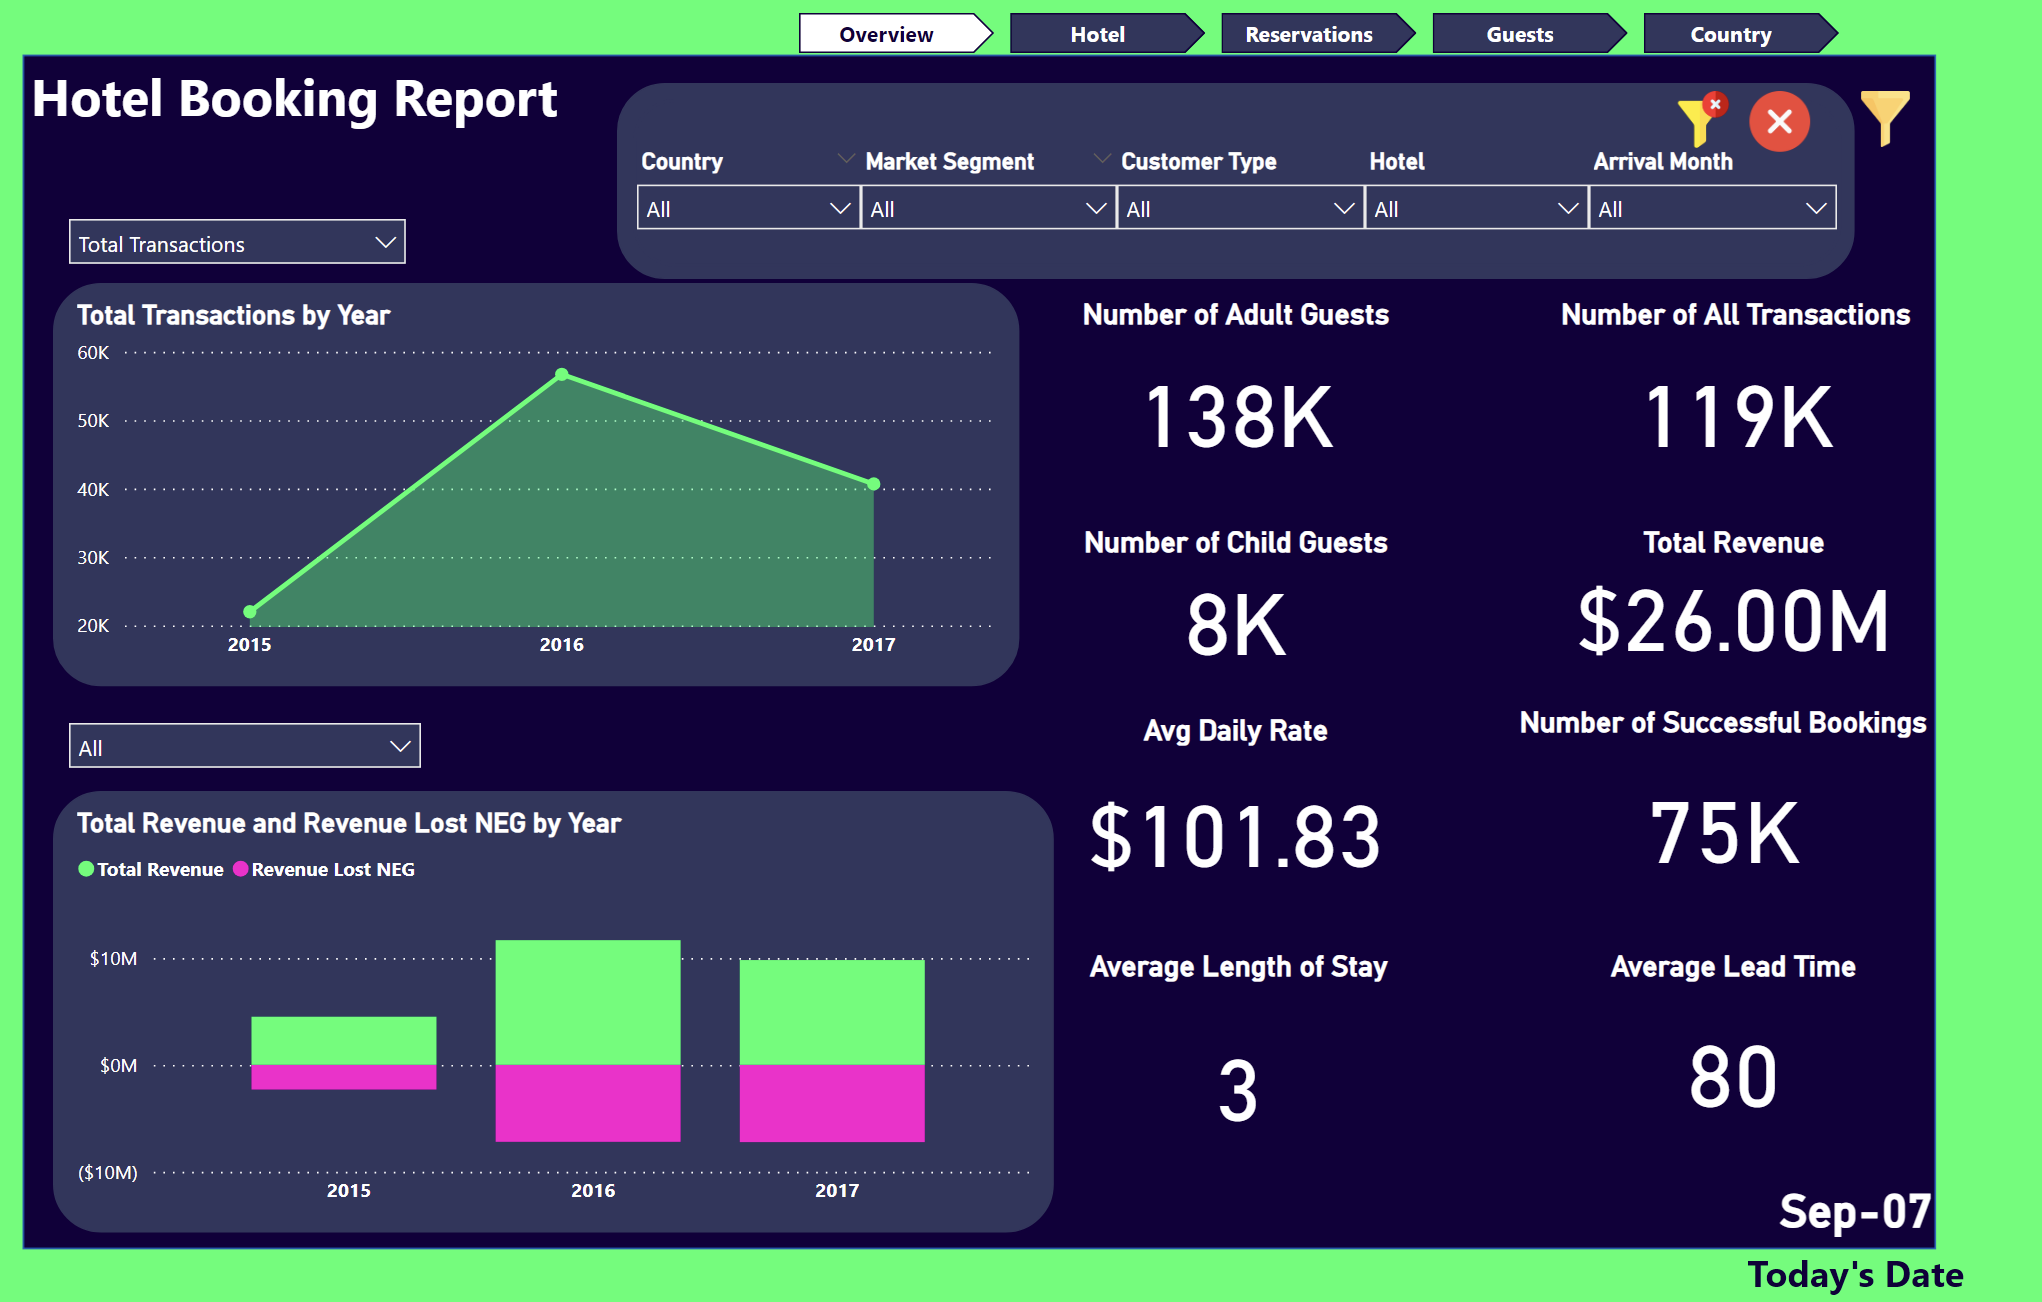

Layout of this report page (visuals, bound fields, positions):
{"tool":"powerbi","page":{"name":"Overview","canvas":[1280,820],"ordinal":0},"visuals":[{"type":"image","title":"Filter Mark","box":[1150,53.8,57.5,45],"z":0},{"type":"pageNavigator","box":[500,10,650,25],"z":1000},{"type":"areaChart","fields":{"Y":["All Measures.Total Number of Transactions"],"Category":["Date Table.Year"]},"box":[33.3,178.7,604,252],"z":2000},{"type":"textbox","title":"Title","box":[15,35,371.2,63.8],"z":3000},{"type":"card","title":"Number of Adult Guests","fields":{"Values":["All Measures.# of adults"]},"box":[653.8,187.5,238.8,117.5],"z":4000},{"type":"card","title":"Number of All Transactions","fields":{"Values":["All Measures.Total Number of Transactions"]},"box":[950.8,187.5,268.8,117.5],"z":5000},{"type":"card","title":"Number of Child Guests","fields":{"Values":["All Measures.# of children"]},"box":[653.8,330,238.8,92.5],"z":6000},{"type":"card","title":"Total Revenue","fields":{"Values":["All Measures.Total Revenue"]},"box":[948.3,330.4,271.2,87.5],"z":7000},{"type":"card","title":"Avg Daily Rate","fields":{"Values":["All Measures.avg rate"]},"box":[653.8,447.5,238.8,122.5],"z":8000},{"type":"card","title":"Number of Successful Bookings","fields":{"Values":["All Measures.# of bookings"]},"box":[936.8,443.1,283,127.6],"z":9000},{"type":"card","title":"Average Length of Stay","fields":{"Values":["All Measures.Avg Length of Stay"]},"box":[653.8,595,242.5,145],"z":10000},{"type":"card","title":"Average Lead Time","fields":{"Values":["All Measures.Average Lead Time"]},"box":[977.3,594.7,213.3,128],"z":11000},{"type":"slicer","fields":{"Values":["Parameter 1.Parameter customer type"]},"box":[33.3,129.3,230.7,49.3],"z":12000},{"type":"columnChart","fields":{"Category":["hotel_bookings.Year","Calendar.Month","Calendar.Week Day"],"Y":["All Measures.Total Revenue","All Measures.Revenue Lost NEG"]},"box":[33.3,496,625.3,276],"z":13000},{"type":"slicer","fields":{"Values":["Parameter 6.Parameter 6"]},"box":[33.3,444,240,49.3],"z":15000},{"type":"card","fields":{"Values":["All Measures.Today's Date"]},"box":[1084.1,722.7,153.7,97.9],"z":16000}]}

Visuals, with their boxes in screenshot pixels (x1, y1, x2, y2), scaled from the page's 1280x820 canvas onto the 2042x1302 screenshot:
"Filter Mark" image: bbox=[1835, 85, 1926, 157]
pageNavigator: bbox=[798, 16, 1835, 56]
areaChart - All Measures.Total Number of Transactions x Date Table.Year: bbox=[53, 284, 1017, 684]
"Title" textbox: bbox=[24, 56, 616, 157]
"Number of Adult Guests" card: bbox=[1043, 298, 1424, 484]
"Number of All Transactions" card: bbox=[1517, 298, 1946, 484]
"Number of Child Guests" card: bbox=[1043, 524, 1424, 671]
"Total Revenue" card: bbox=[1513, 525, 1945, 664]
"Avg Daily Rate" card: bbox=[1043, 711, 1424, 905]
"Number of Successful Bookings" card: bbox=[1494, 704, 1946, 906]
"Average Length of Stay" card: bbox=[1043, 945, 1430, 1175]
"Average Lead Time" card: bbox=[1559, 944, 1899, 1148]
slicer - Parameter 1.Parameter customer type: bbox=[53, 205, 421, 284]
columnChart - hotel_bookings.Year x Calendar.Month: bbox=[53, 788, 1051, 1226]
slicer - Parameter 6.Parameter 6: bbox=[53, 705, 436, 783]
card - All Measures.Today's Date: bbox=[1729, 1148, 1975, 1301]
